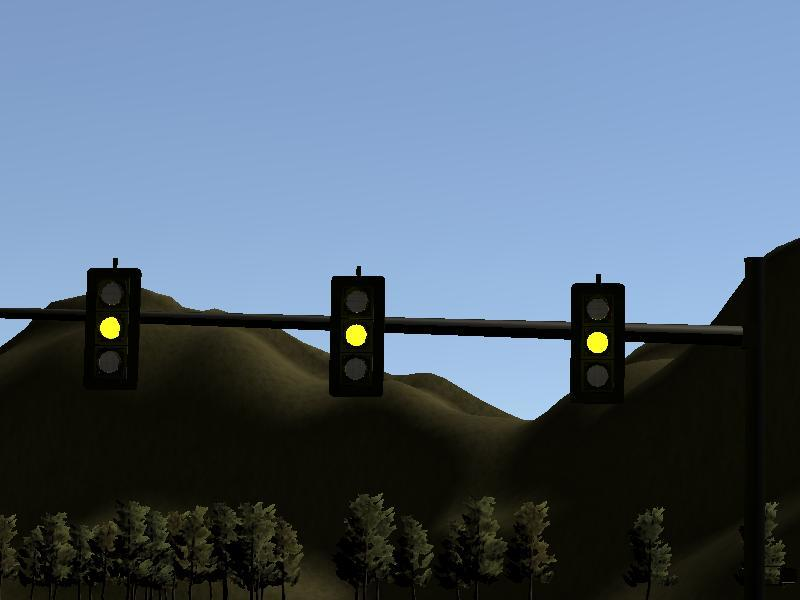Yellow: (83, 267, 141, 394), (329, 275, 385, 400), (569, 282, 624, 402)
